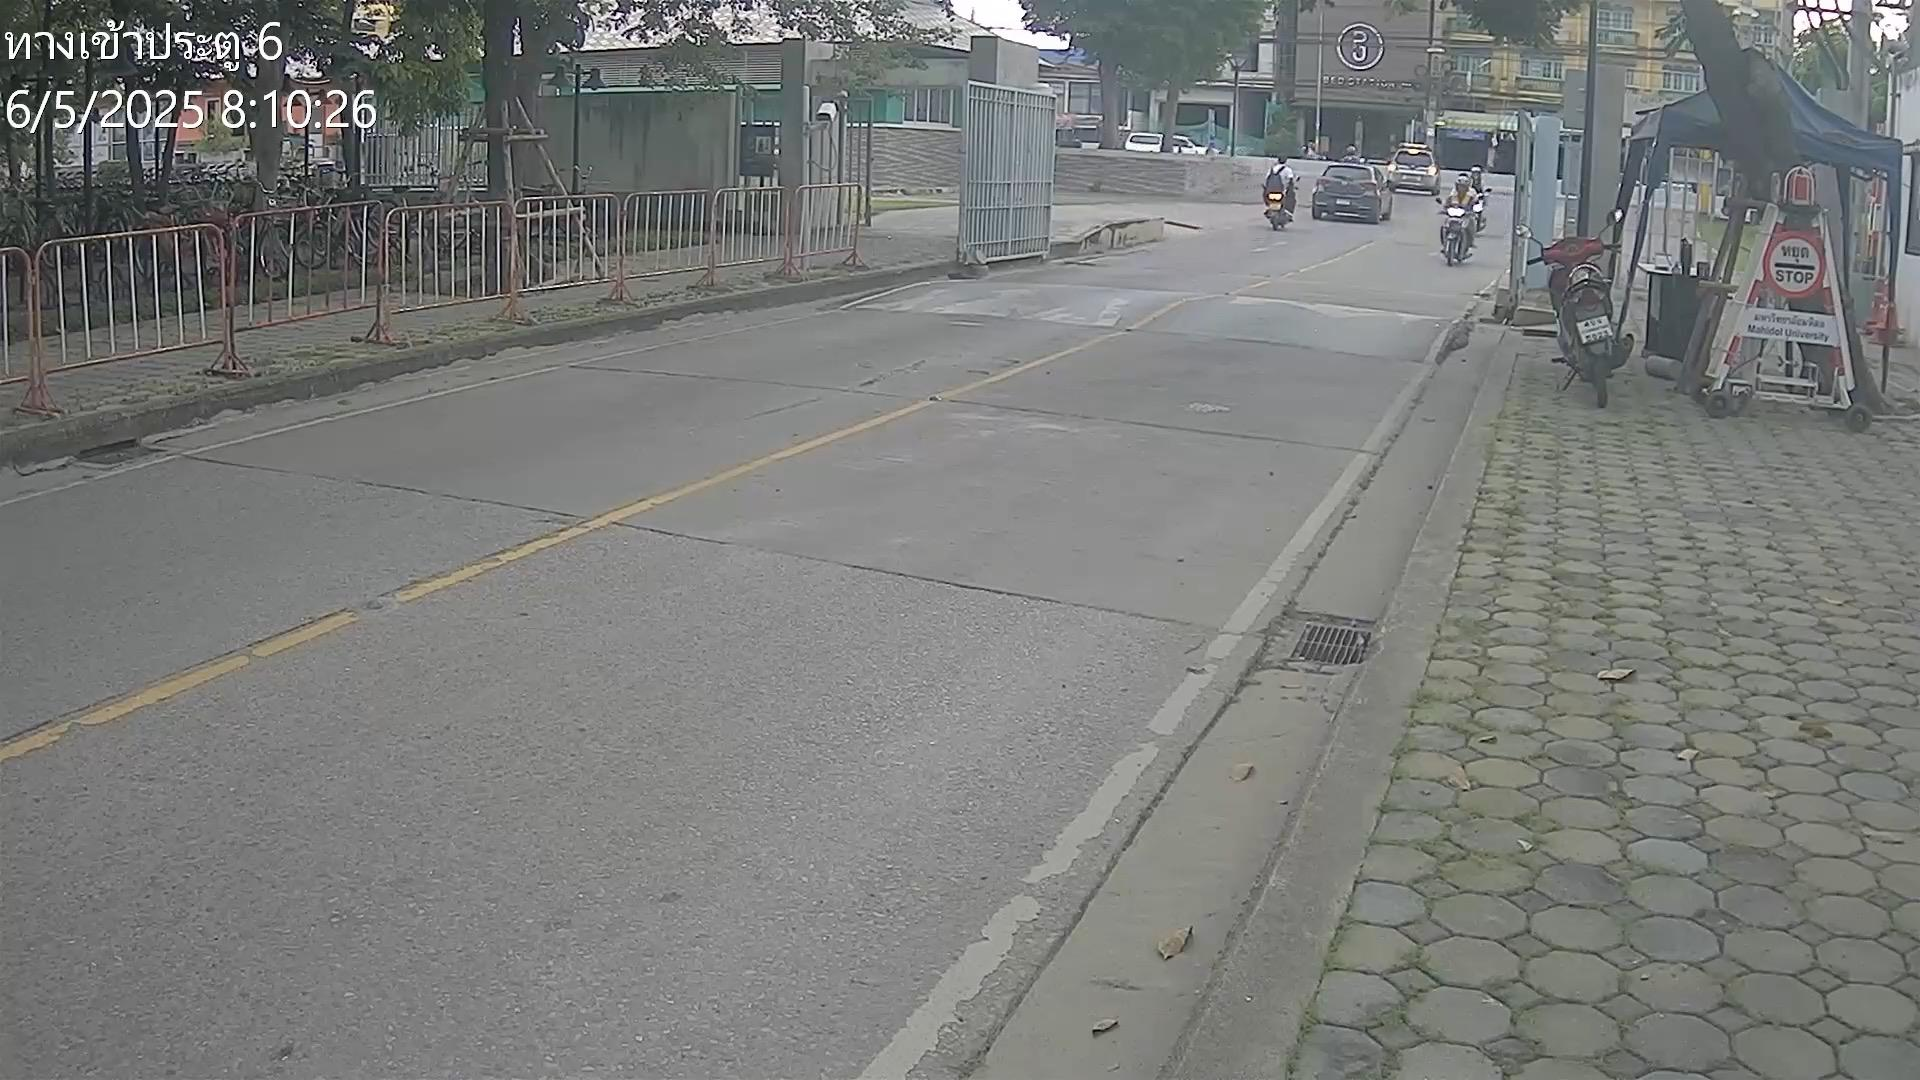With-Helmet: (1456, 175, 1470, 195), (1470, 166, 1482, 181)
